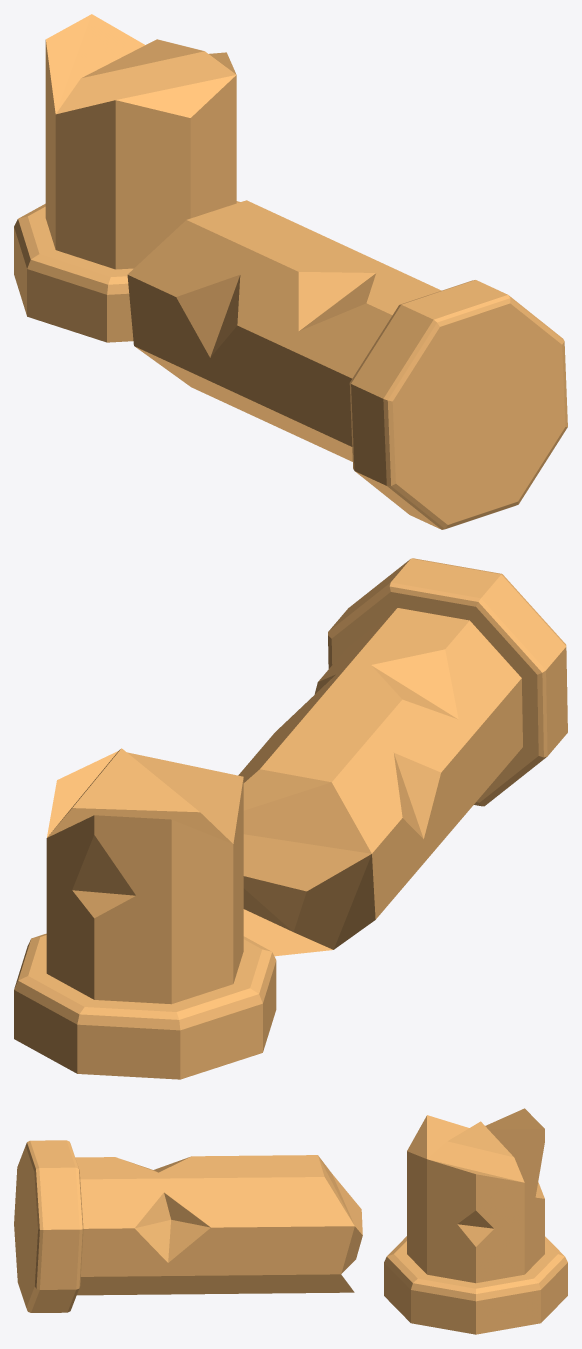
Rendered from 3x1Column.fbx.
The picture shows the model from 3 angles, top to bottom: view 1: azimuth 30°, elevation 25°; view 2: azimuth 150°, elevation 25°; view 3: azimuth 270°, elevation 25°; orthographic projection. The views are drawn at different scales.
Visible parts, largest first — view 1: 3x1 Column; view 2: 3x1 Column; view 3: 3x1 Column.
Boxes of the visible parts, left/top/right/bottom form: 3x1 Column: left=14, top=14, right=567, bottom=529; 3x1 Column: left=14, top=558, right=567, bottom=1079; 3x1 Column: left=14, top=1108, right=567, bottom=1334.
Bounding box in the file's own units: 101 × 101 × 301.
